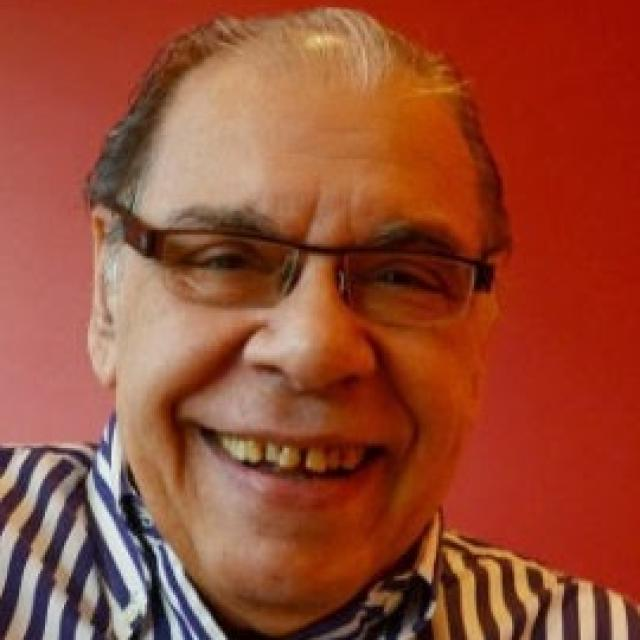Normal: (107, 30, 486, 604)
